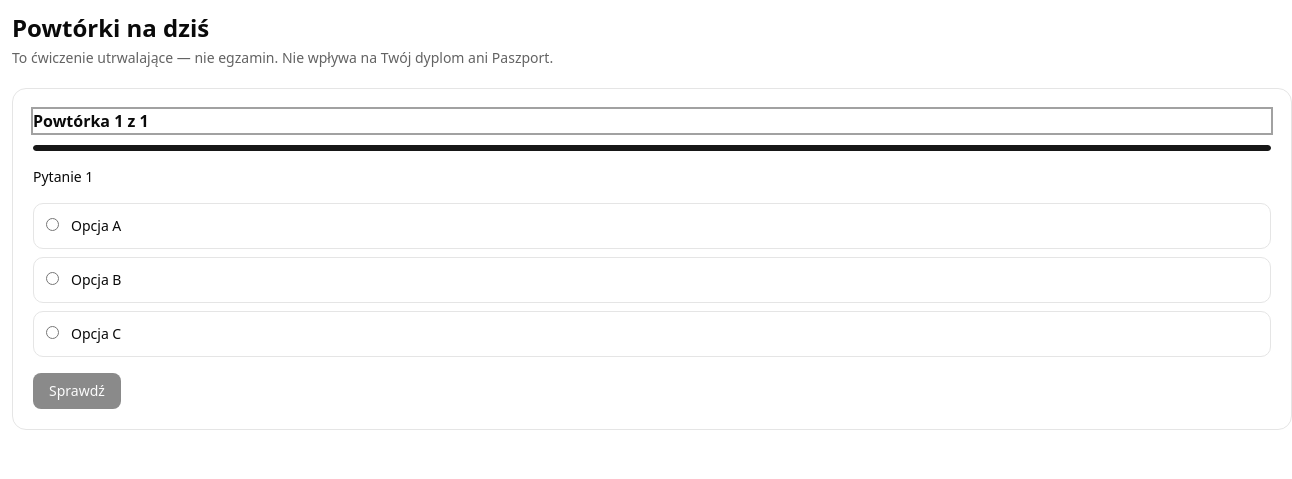
ReviewRunner — mapowanie kodów błędów › sieć/500 na ocenie → komunikat retry, wybór zostaje
Expected: the heading "Powtórka 1 z 1" is shown, [33,109,1271,133]
Click the radio button labelled "Opcja A".
click(52, 224)  # box [46,218,59,231]
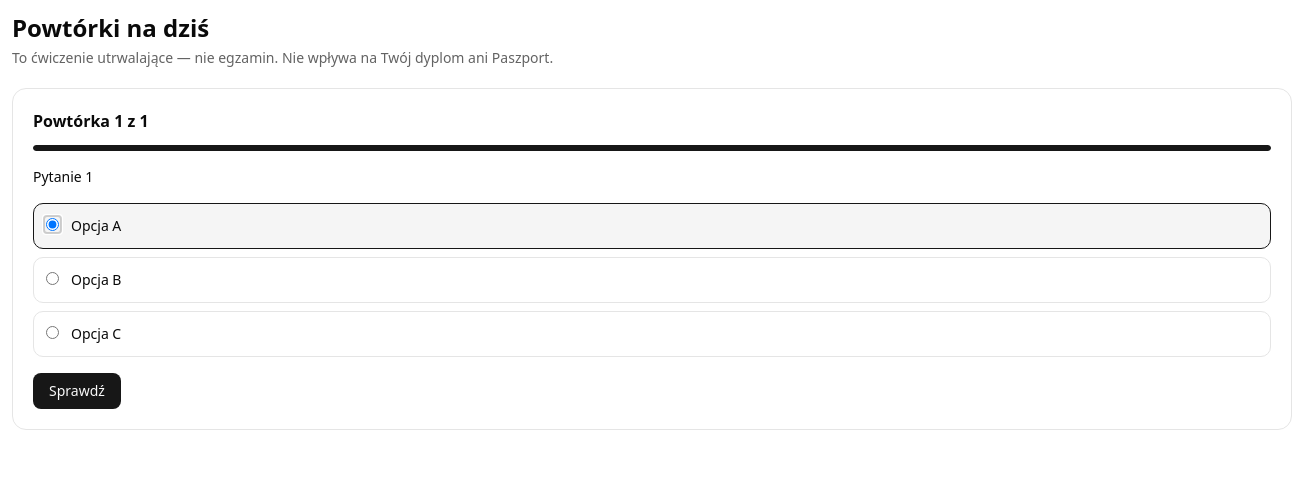
Click the button "Sprawdź".
click(77, 391)  # box [33,373,121,409]
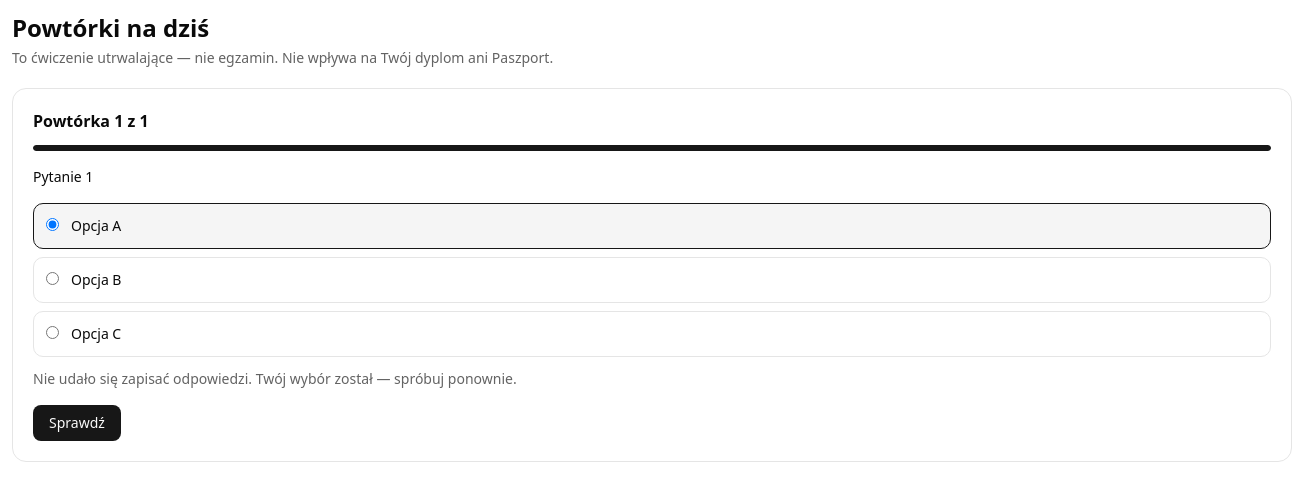
Result: the radio button labelled "Opcja A" is checked at [46,218,59,231]
Result: the message shows "Nie udało się zapisać odpowiedzi" at [33,369,517,388]
